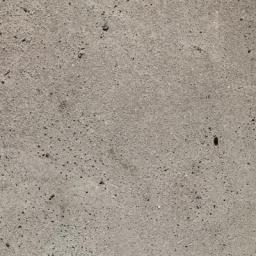FOD: (214, 136, 221, 149)
